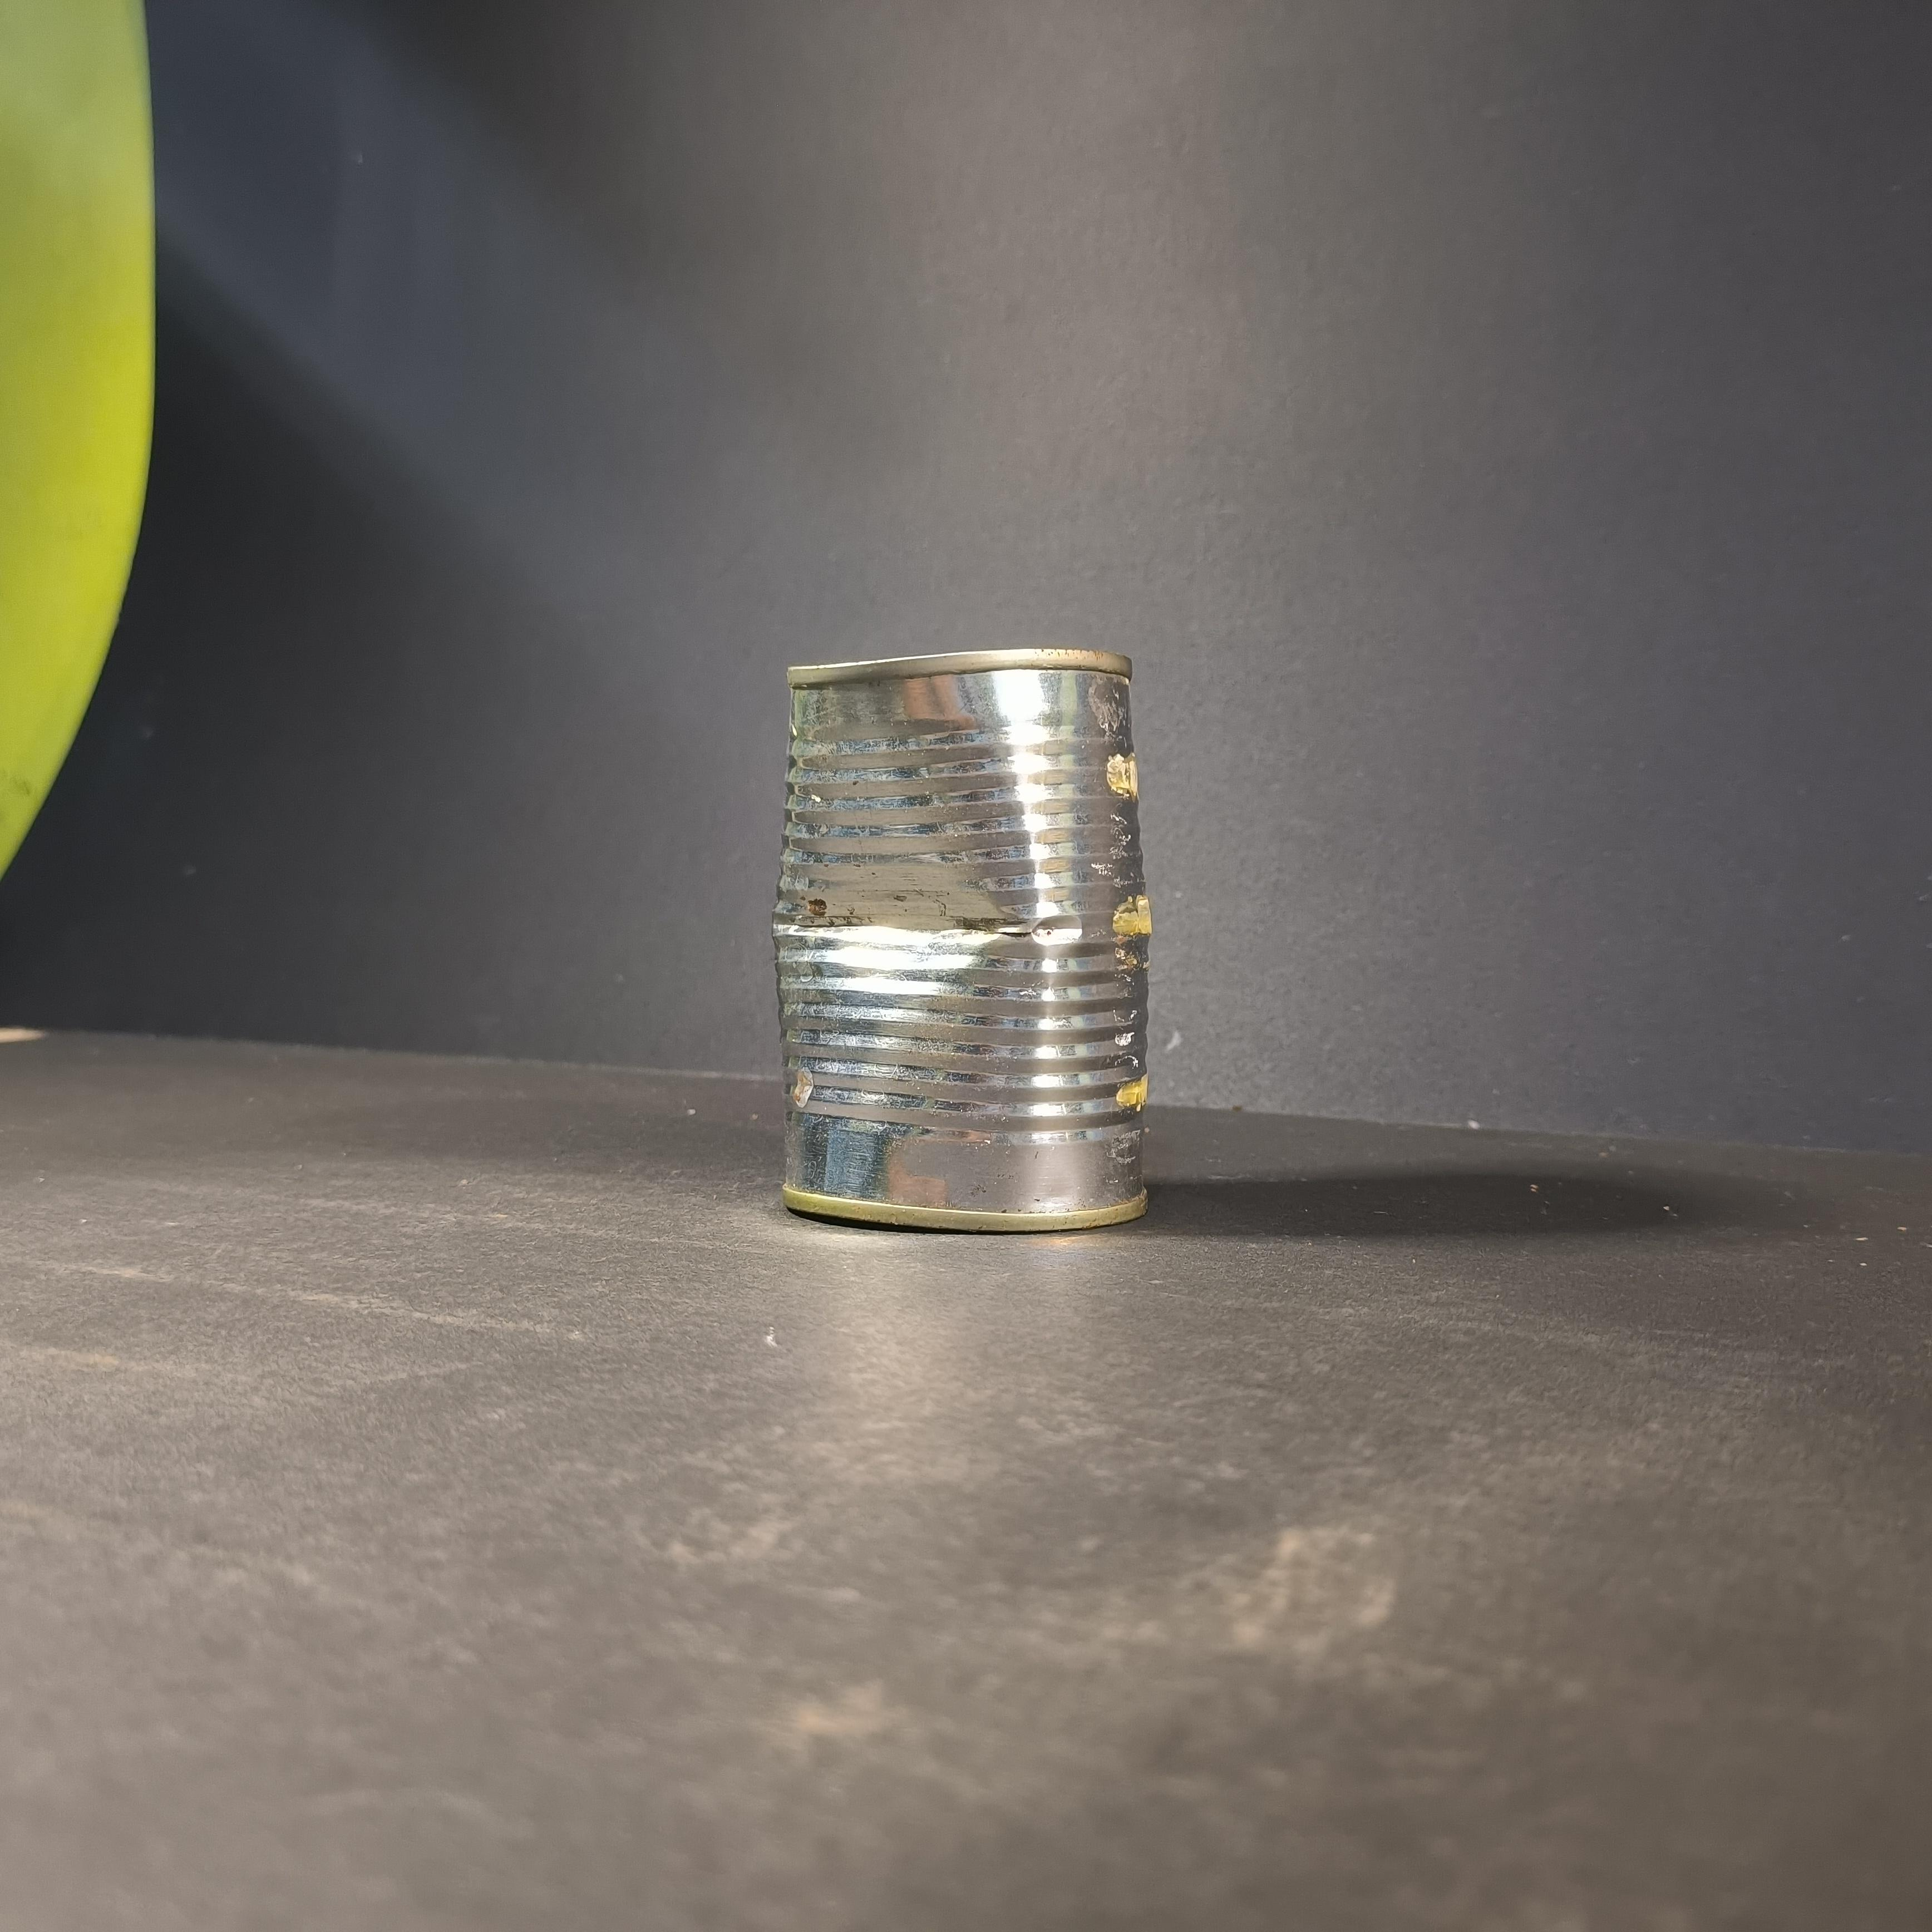Dented: (740, 617, 1182, 1263)
